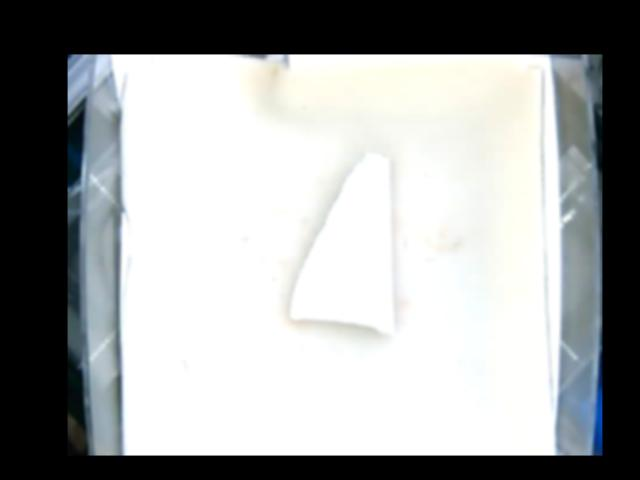China: (288, 152, 393, 334)
